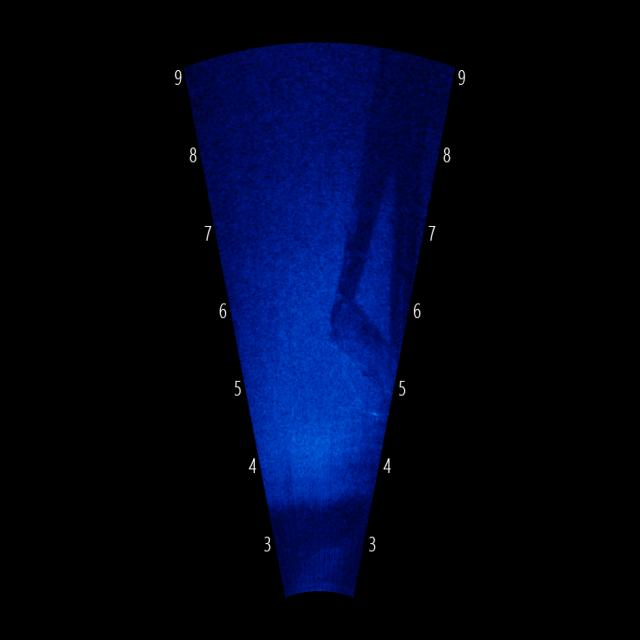triangle: (315, 90, 432, 398)
